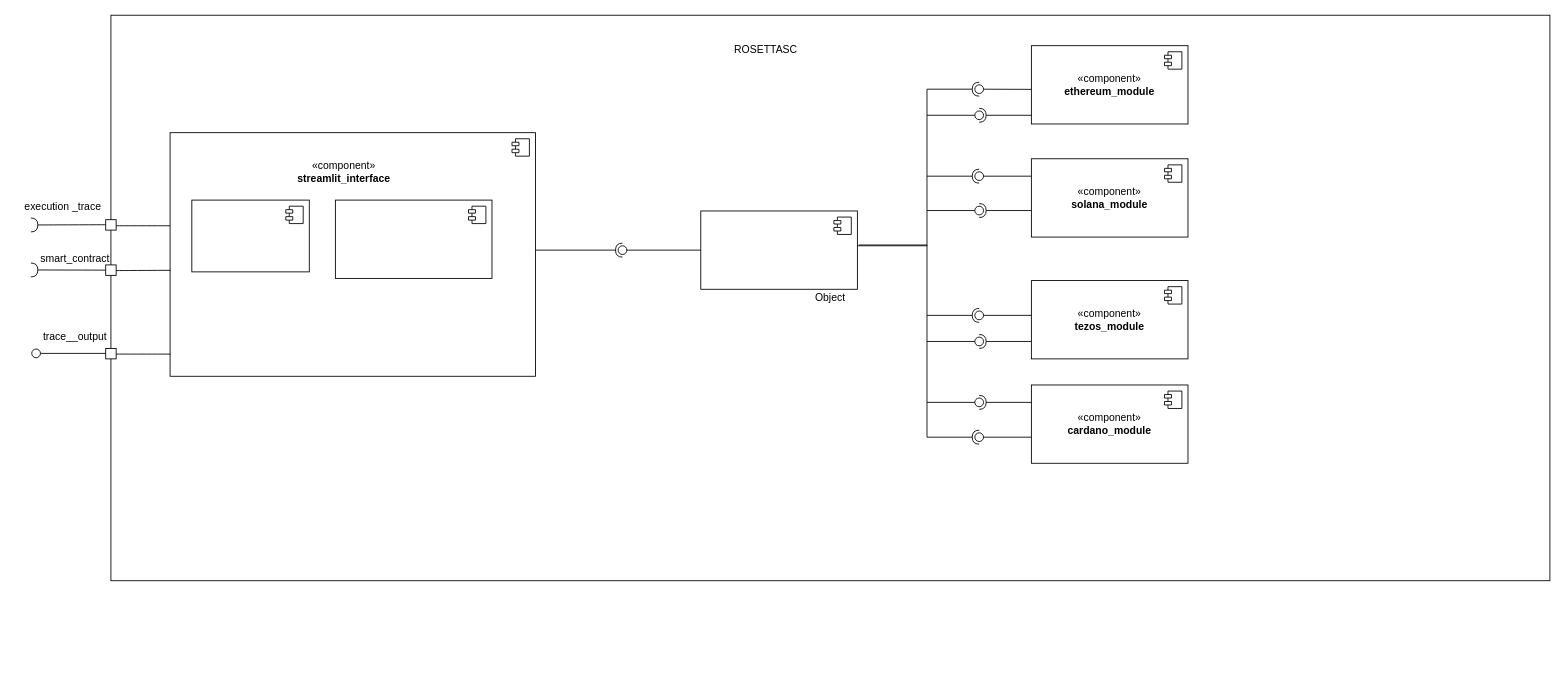
Image size: 1565x687. Some labels were removed from this diagram. Here are the shapes that lost their labels. From the top down, the box of each, then its label:
(191, 199, 309, 272): «component» pages
(335, 199, 492, 278): «component» Rosetta_utils
(700, 210, 857, 289): «component» flask_backend
